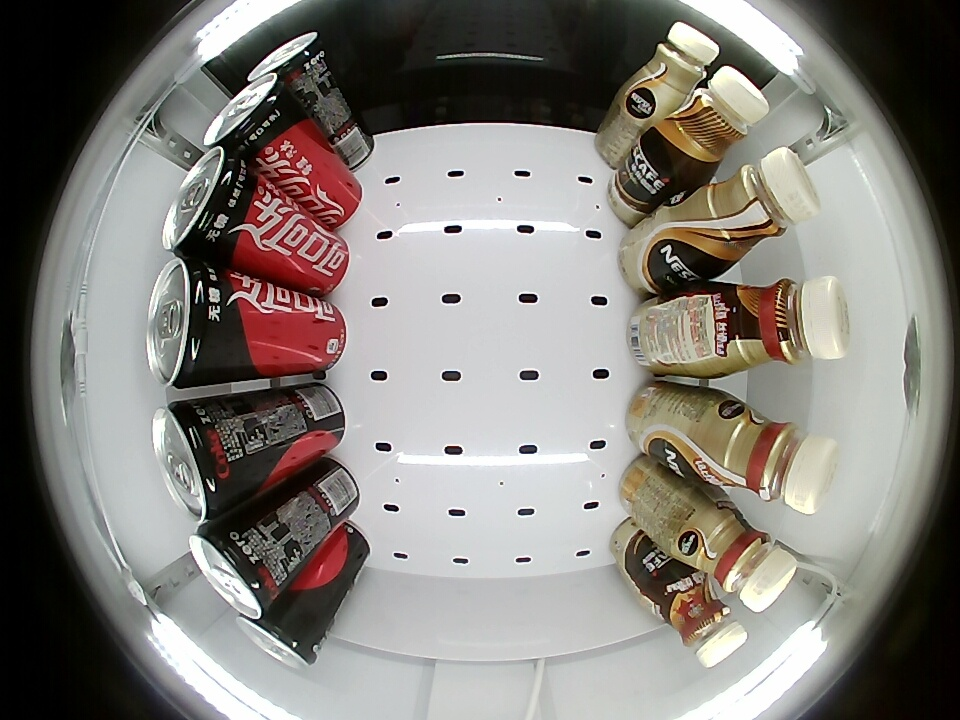kafei: (666, 147, 822, 280), (695, 398, 840, 516), (646, 66, 769, 187), (717, 277, 851, 373), (685, 501, 798, 612), (651, 568, 748, 668), (633, 22, 719, 110)
lingdukele: (161, 145, 259, 261), (145, 258, 234, 385), (151, 398, 241, 523), (189, 518, 282, 620), (205, 74, 294, 156), (235, 605, 320, 670), (248, 31, 326, 100)
